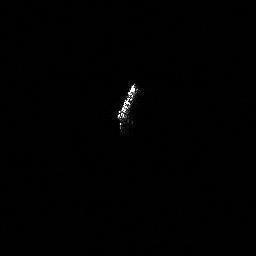ship: (110, 78, 140, 136)
